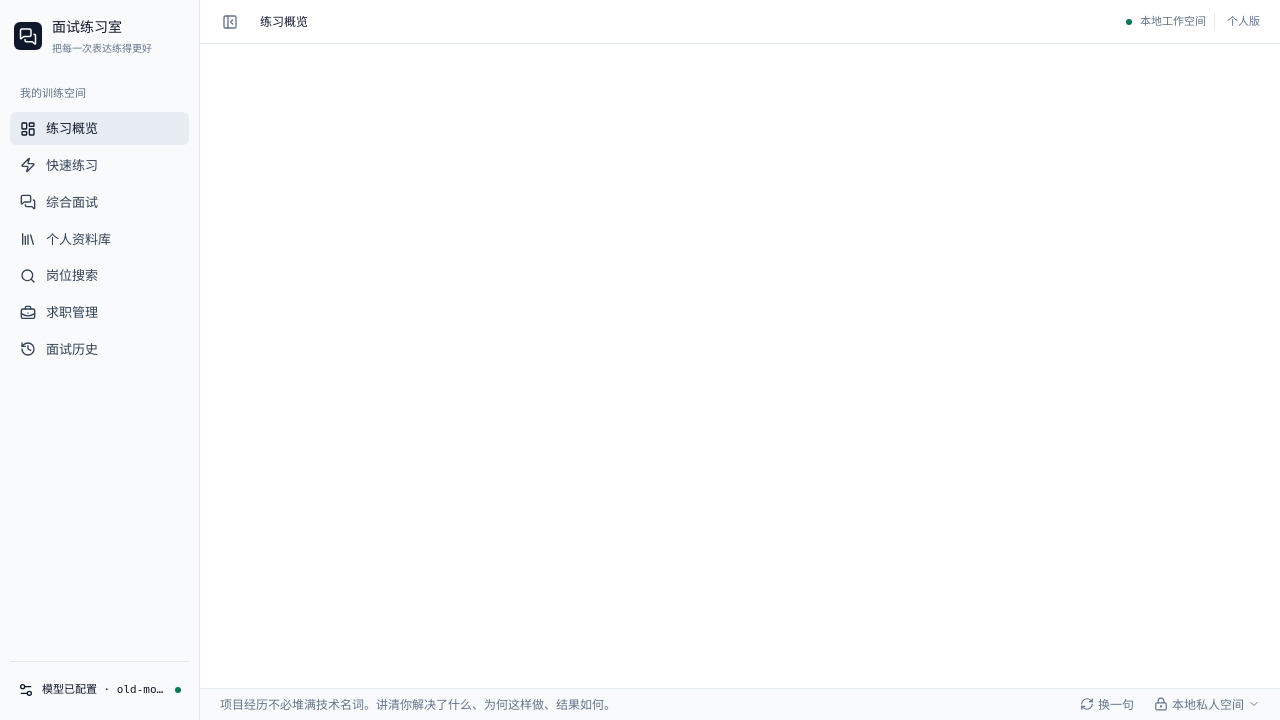
Test: 模型列表失败不影响手填，JSON测试只检测草稿而不保存
The image size is (1280, 720).
Click the button "模型已配置 · old-model" at (100, 690), box [10,672,189,708]
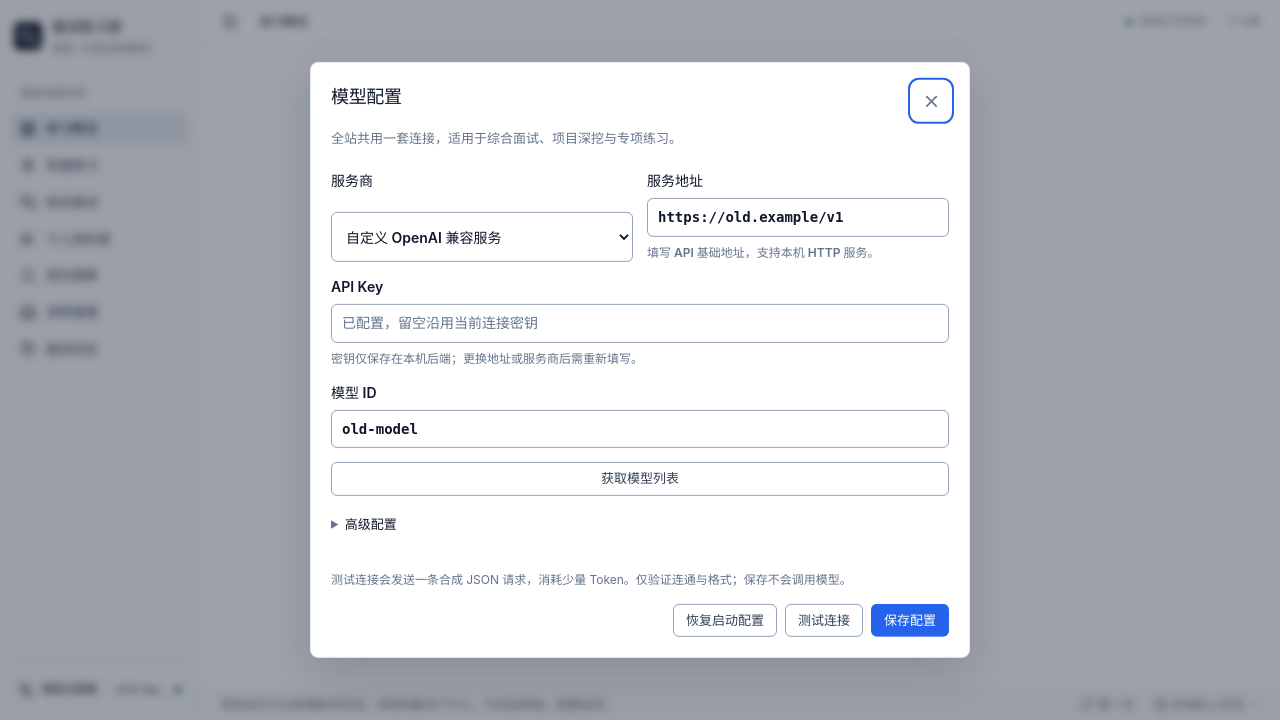
Replace the text in the field labelled "模型 ID" with "manual-model" at (640, 429), box [331,410,949,448]
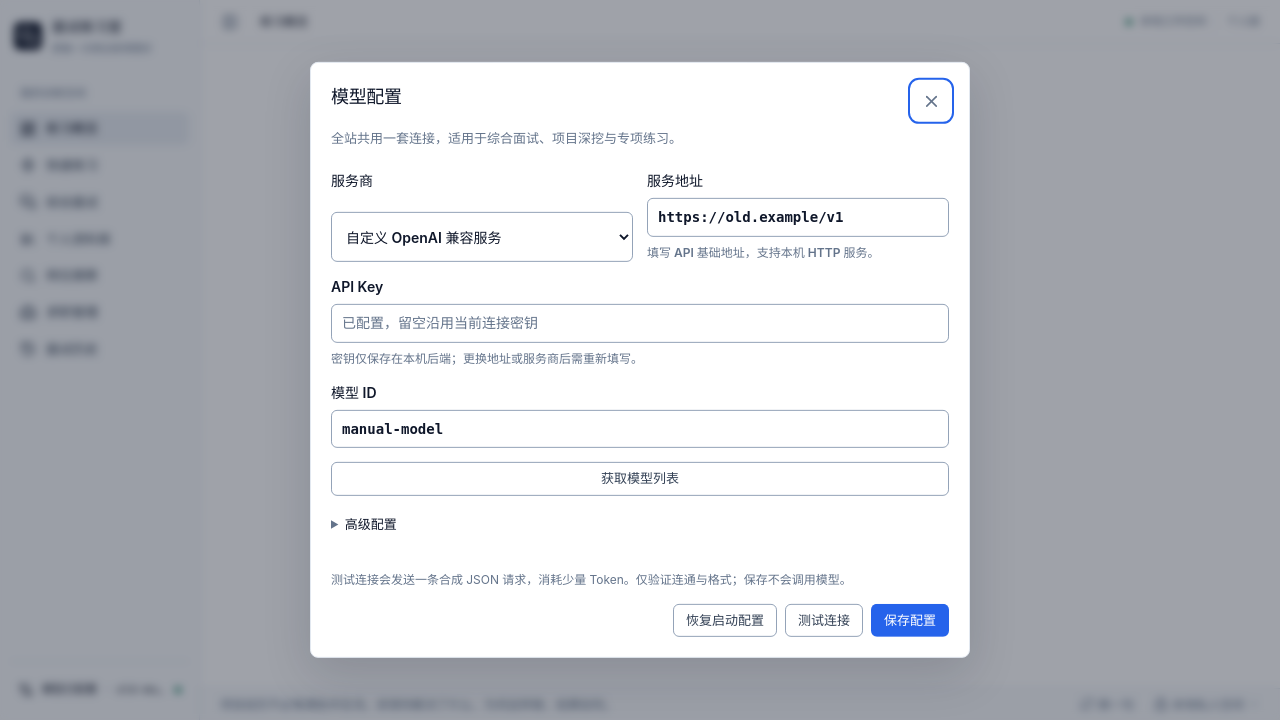
Click the button "获取模型列表" at (640, 479), box [331,462,949,496]
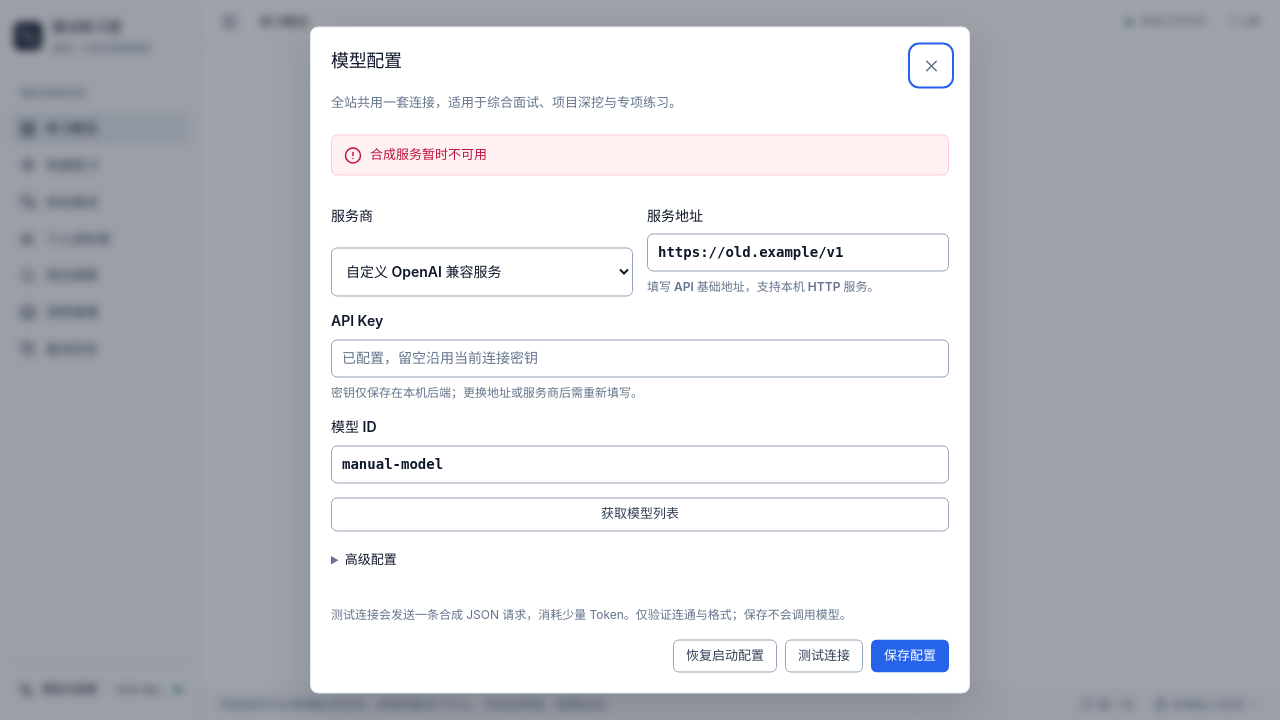
Now the text "合成服务暂时不可用" is shown, box [370,143,487,166]
Click the button "测试连接" at (824, 656), box [785,639,863,672]
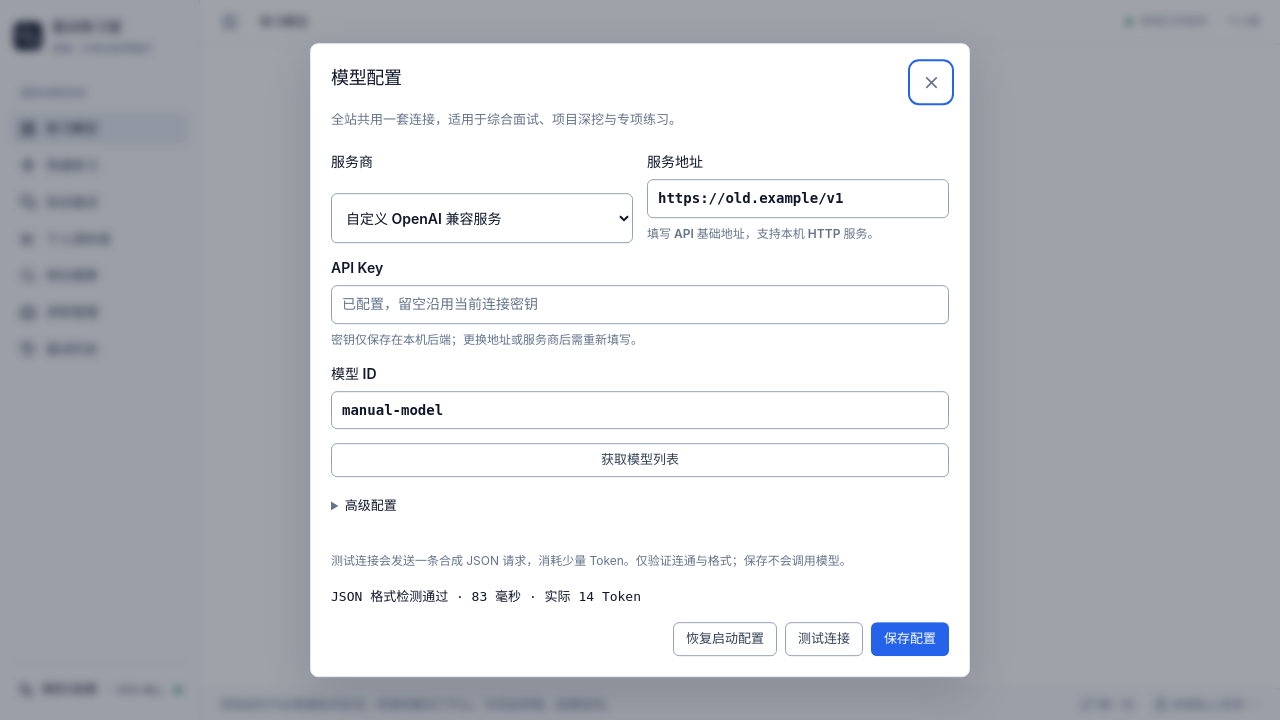
Now the text "JSON" is shown, box [331,553,852,568]
Now the text "14" is shown, box [521,589,641,604]
